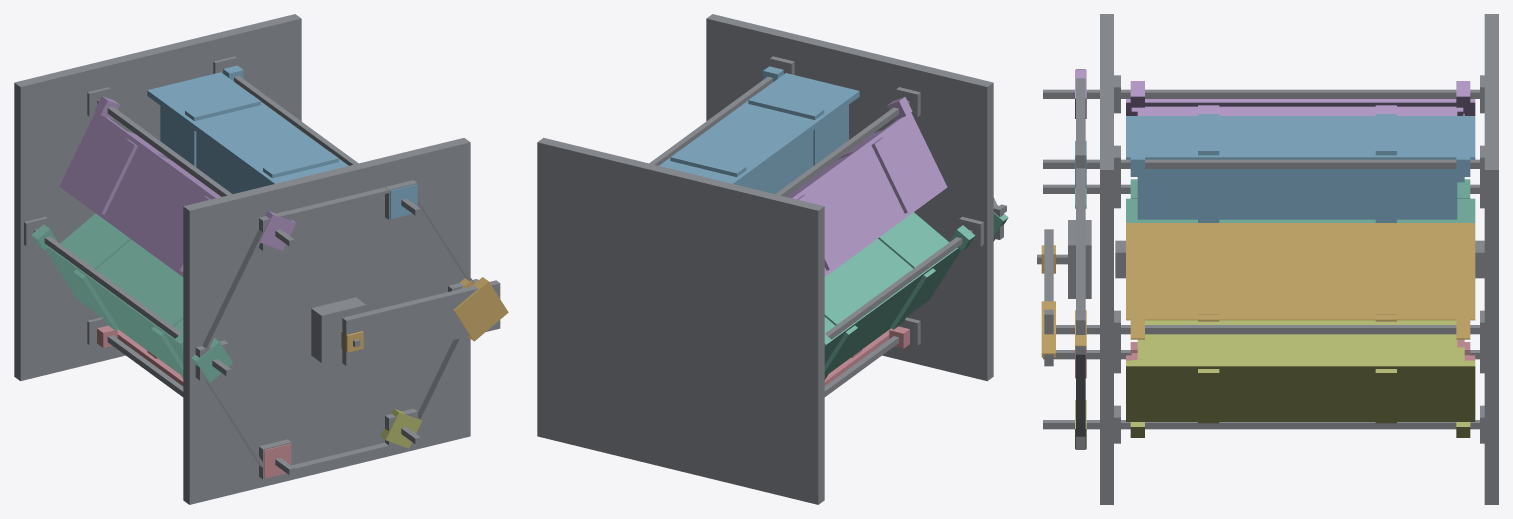
Rendered from storage_envelopes.glb.
3 renders of one model, left to right at view 1: azimuth 30°, elevation 25°; view 2: azimuth 150°, elevation 25°; view 3: azimuth 270°, elevation 25°, orthographic. The views are drawn at different scales.
Parts seen in each view (by area): view 1: fixed/roof, fixed/base, door2/board, door1/board, fixed/input_belt_corridor, door3/doll, door3/board, door1/doll, fixed/knob, door0/input_driven_60T, fixed/shaft3, fixed/shaft2 (+18 smaller); view 2: fixed/base, fixed/roof, door2/board, door1/board, door3/doll, door3/board, door1/doll, fixed/shaft3, door1/torso_strap, fixed/shaft2, door2/torso_strap, door3/torso_strap (+5 smaller); view 3: door0/board, door5/board, door1/doll, door1/board, door5/doll, fixed/base, fixed/roof, fixed/shaft1, fixed/shaft2, fixed/shaft0, fixed/shaft5, door2/board (+18 smaller).
Part boxes in pixels (<box>): fixed/roof: <box>183,138,470,504</box>; fixed/base: <box>14,14,301,381</box>; door2/board: <box>59,112,217,276</box>; door1/board: <box>147,72,348,185</box>; fixed/input_belt_corridor: <box>342,280,500,365</box>; door3/doll: <box>60,213,183,332</box>; door3/board: <box>46,247,183,374</box>; door1/doll: <box>160,106,262,193</box>; fixed/knob: <box>311,297,366,362</box>; door0/input_driven_60T: <box>454,277,508,341</box>; fixed/shaft3: <box>34,229,231,375</box>; fixed/shaft2: <box>97,100,294,246</box>; fixed/base: <box>537,137,824,504</box>; fixed/roof: <box>706,14,993,381</box>; door2/board: <box>790,112,947,276</box>; door1/board: <box>659,73,859,185</box>; door3/doll: <box>824,212,949,333</box>; door3/board: <box>824,247,960,373</box>; door1/doll: <box>746,105,848,193</box>; fixed/shaft3: <box>825,204,1006,339</box>; door1/torso_strap: <box>748,93,824,165</box>; fixed/shaft2: <box>775,100,909,196</box>; door2/torso_strap: <box>838,137,916,213</box>; door3/torso_strap: <box>878,230,935,329</box>; door0/board: <box>1126,223,1475,320</box>; door5/board: <box>1126,360,1475,421</box>; door1/doll: <box>1137,169,1457,219</box>; door1/board: <box>1126,116,1475,159</box>; door5/doll: <box>1137,320,1457,359</box>; fixed/base: <box>1484,14,1498,504</box>; fixed/roof: <box>1100,14,1113,504</box>; fixed/shaft1: <box>1043,159,1479,168</box>; fixed/shaft2: <box>1043,89,1479,98</box>; fixed/shaft0: <box>1056,325,1479,334</box>; fixed/shaft5: <box>1043,420,1479,429</box>; door2/board: <box>1126,99,1475,115</box>.
Bounding box in the file's own units: 331 × 312 × 390.
